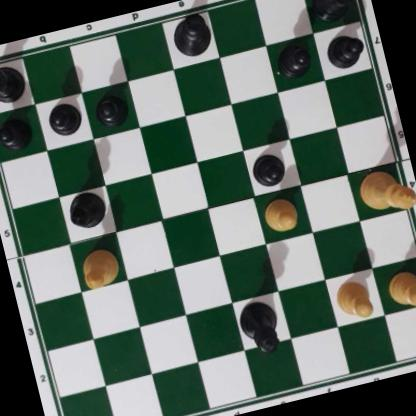black-bishop: (62, 187, 112, 232)
black-king: (166, 9, 216, 59)
black-pawn: (322, 28, 366, 72), (272, 39, 313, 80), (249, 148, 288, 189), (91, 88, 129, 129), (44, 99, 82, 139), (0, 112, 34, 152)
black-queen: (236, 296, 286, 360)
black-rook: (0, 56, 29, 109), (307, 0, 363, 24)
white-bishop: (78, 247, 122, 290)
white-king: (355, 165, 416, 219)
white-pawn: (331, 275, 376, 324), (259, 192, 302, 238), (384, 266, 416, 312)
